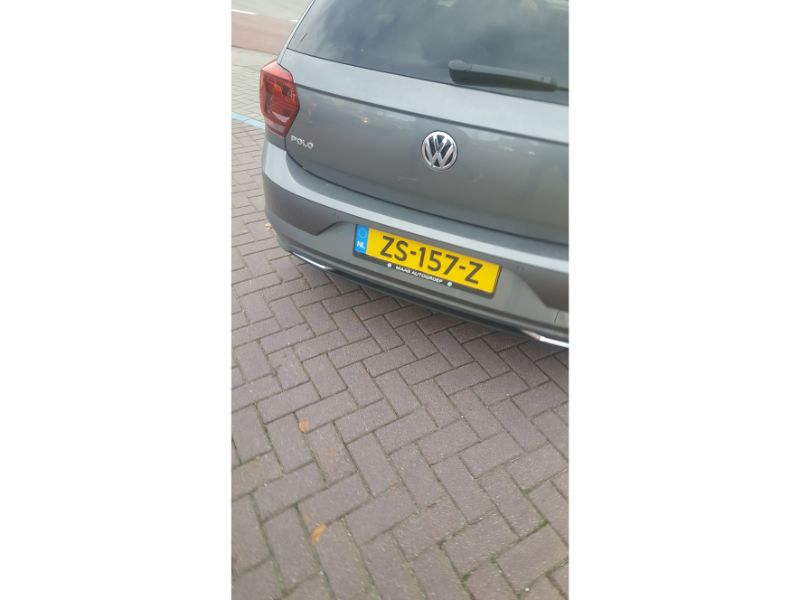kenteken: (353, 223, 501, 297)
